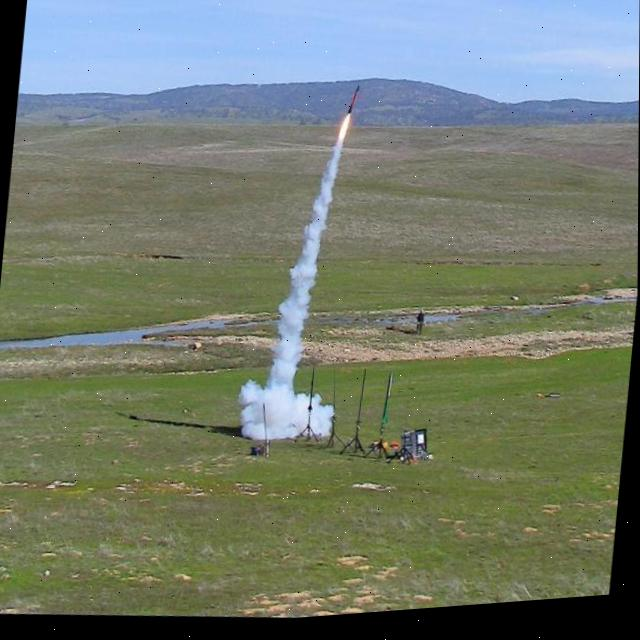missile: (346, 87, 361, 116)
